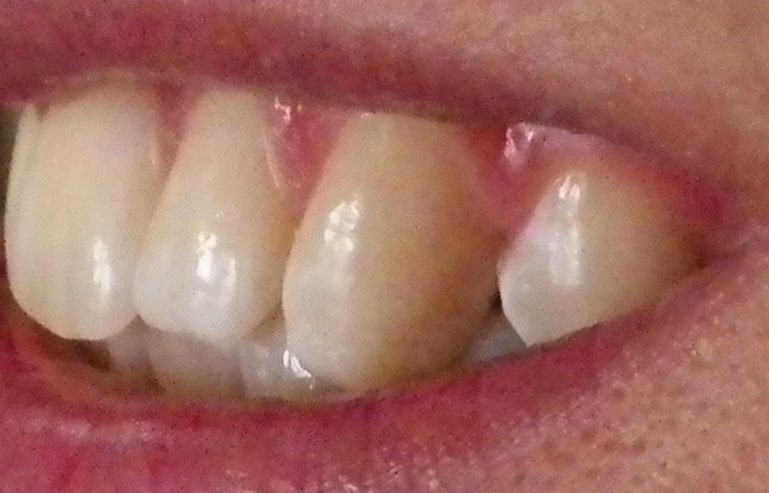boca: (11, 88, 680, 407)
